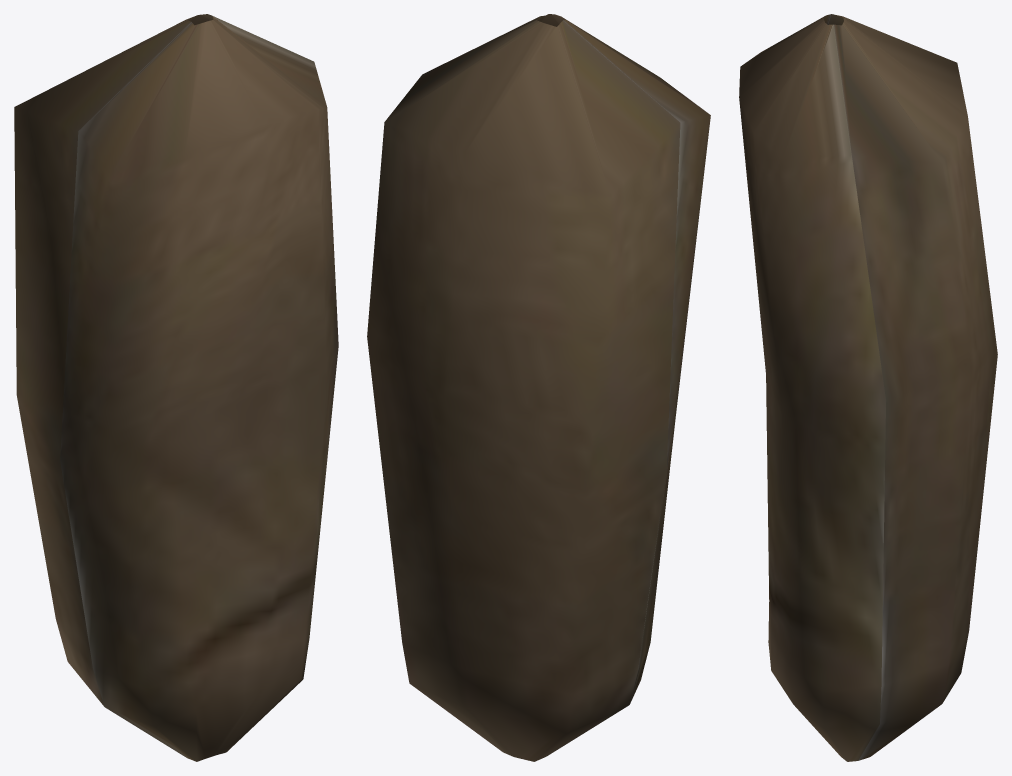
Rendered from leg_l.fbx.
3 views of the same model, side by side, from view 1: azimuth 30°, elevation 25°; view 2: azimuth 150°, elevation 25°; view 3: azimuth 270°, elevation 25° (orthographic). The views are drawn at different scales.
Parts seen in each view (by area): view 1: Mesh_3; view 2: Mesh_3; view 3: Mesh_3.
Boxes of the visible parts, x1,y1,x2,y2 form: Mesh_3: (14, 14, 338, 761); Mesh_3: (367, 14, 710, 761); Mesh_3: (739, 14, 997, 761).
Bounding box in the file's own units: 4.46 × 11.35 × 3.66.
